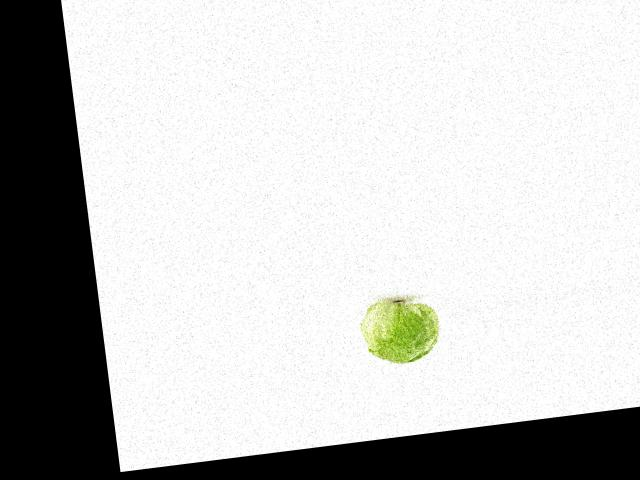lettuce: (357, 297, 452, 370)
